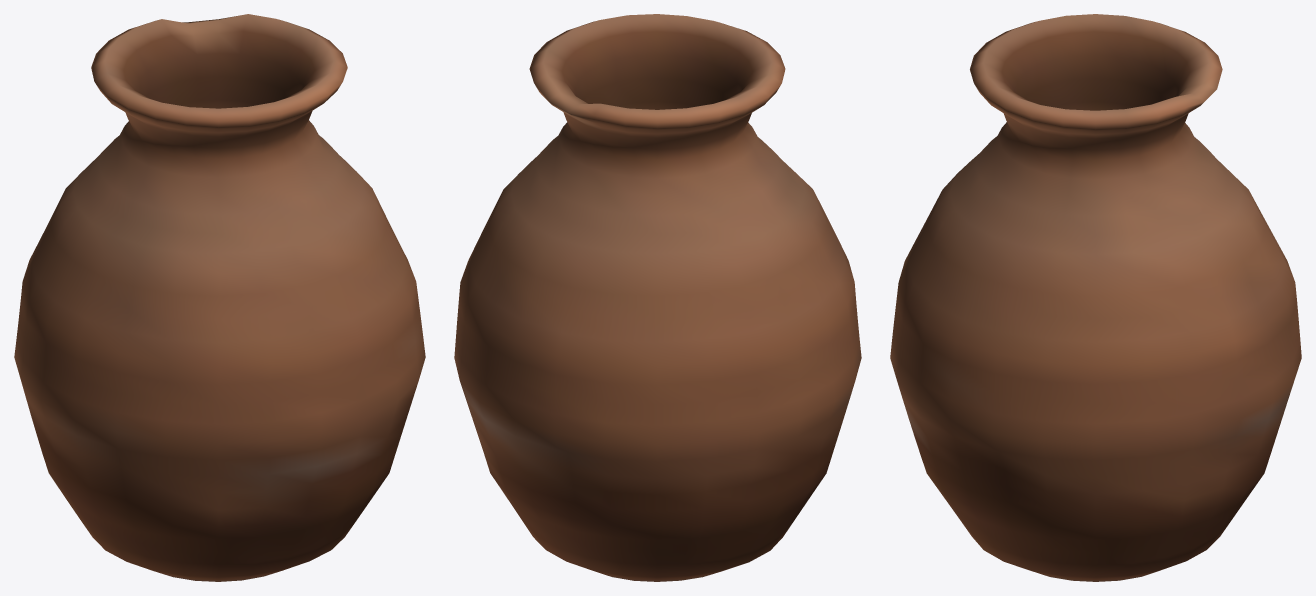
File: pot_matka_v2.glb
3 renders of one model, left to right at view 1: azimuth 30°, elevation 25°; view 2: azimuth 150°, elevation 25°; view 3: azimuth 270°, elevation 25°, orthographic.
Visible parts, largest first — view 1: hb_main; view 2: hb_main; view 3: hb_main.
Part boxes in pixels (bbox=[...]): hb_main: bbox=[14, 14, 425, 581]; hb_main: bbox=[454, 14, 861, 581]; hb_main: bbox=[890, 14, 1301, 581].
Bounding box in the file's own units: 0.5369 × 0.7 × 0.5431.
